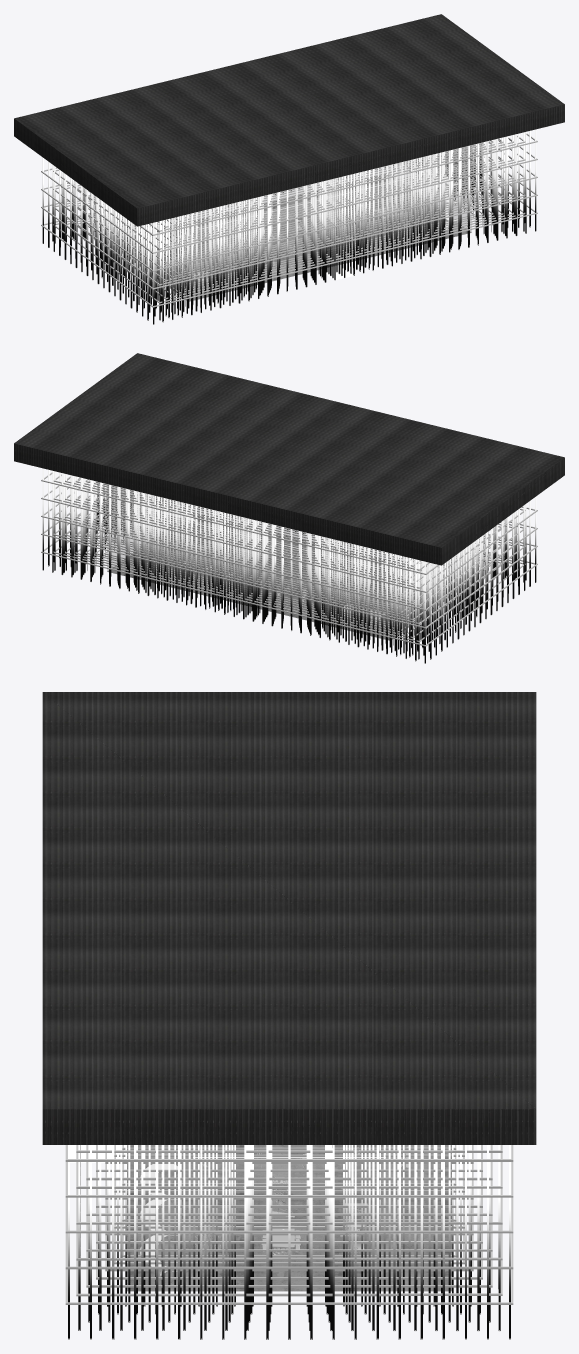
3 renders of one model, top to bottom at view 1: azimuth 30°, elevation 25°; view 2: azimuth 150°, elevation 25°; view 3: azimuth 270°, elevation 25°, orthographic. The views are drawn at different scales.
Visible parts, largest first — view 1: dfwccbs-revisited2, vert, horiz, Groundcconcrete, cam, Merged Objects 1, ems; view 2: dfwccbs-revisited2, vert, horiz, Groundcconcrete, cam, Merged Objects 1; view 3: dfwccbs-revisited2, vert, horiz, Groundcconcrete, cam, Merged Objects 1, ems.
Boxes of the visible parts, box(x1,y1,x2,y2) form: dfwccbs-revisited2: box(14, 14, 564, 226); vert: box(42, 129, 536, 324); horiz: box(41, 133, 537, 307); Groundcconcrete: box(108, 173, 471, 301); cam: box(122, 146, 471, 300); Merged Objects 1: box(157, 192, 422, 282); ems: box(184, 161, 458, 280); dfwccbs-revisited2: box(14, 353, 564, 565); vert: box(42, 468, 536, 663); horiz: box(41, 472, 537, 646); Groundcconcrete: box(107, 513, 470, 640); cam: box(107, 485, 456, 639); Merged Objects 1: box(162, 527, 426, 623); dfwccbs-revisited2: box(42, 692, 536, 1144); vert: box(68, 1145, 510, 1339); horiz: box(65, 1145, 513, 1304); Groundcconcrete: box(127, 1145, 451, 1291); cam: box(127, 1145, 451, 1290); Merged Objects 1: box(192, 1146, 408, 1254); ems: box(70, 1145, 385, 1275).
Bounding box in the file's own units: 51 × 14.48 × 25.5.
6 materials, 3 textured.
